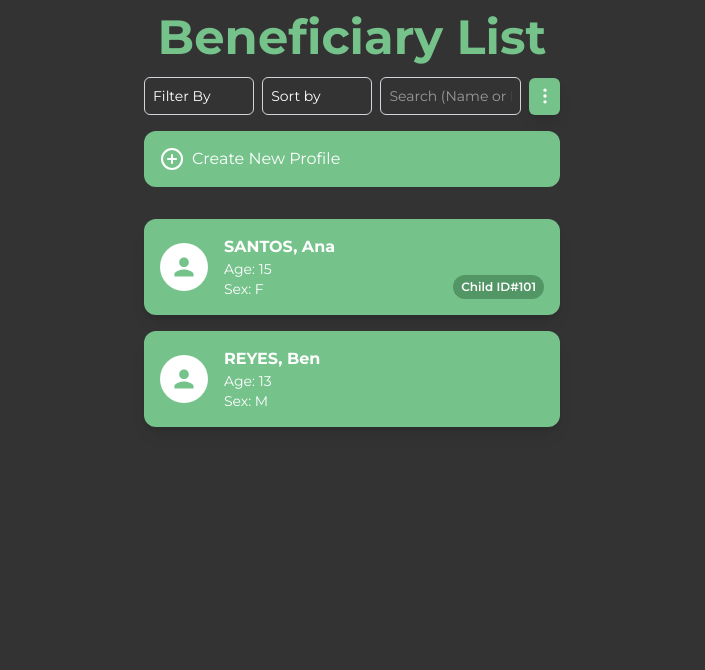
Volunteer Beneficiary Management › volunteer can view the list and navigate to a profile
Expected: the text "SANTOS, Ana" is shown, [224,237,335,256]
What coordinates should you click on to do the following:
click the text "REYES, Ben"
I would click on:
 (272, 358)
Its box is [224,349,320,368].
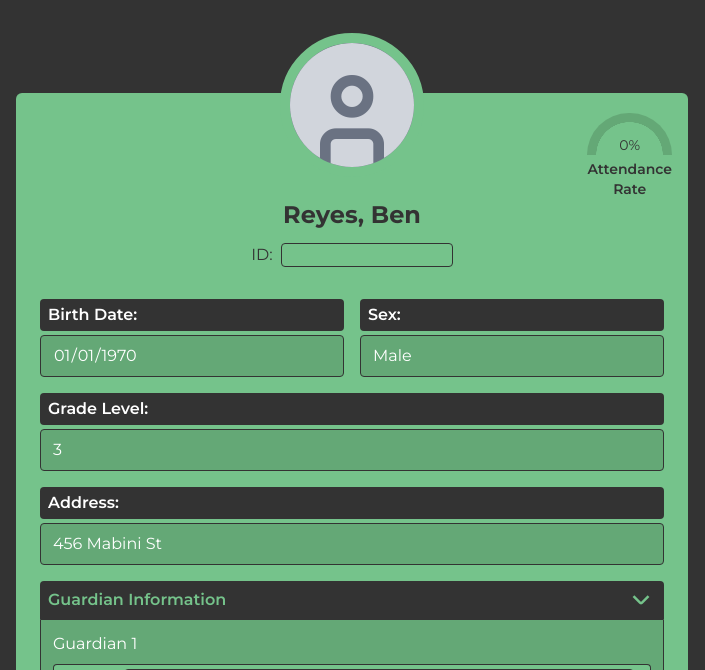
Expected: the field showing "456 Mabini St" is shown, [40,523,664,565]
